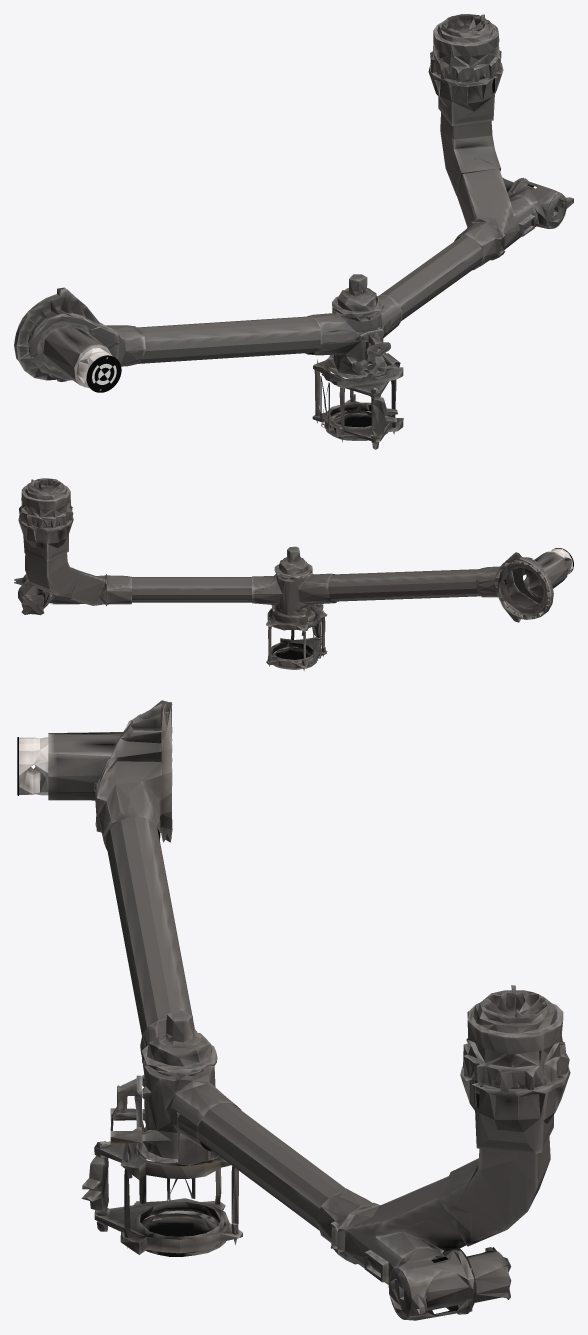
File: Left_Bogie.gltf
3 views of the same model, one above another, from view 1: azimuth 30°, elevation 25°; view 2: azimuth 150°, elevation 25°; view 3: azimuth 270°, elevation 25° (orthographic). The views are drawn at different scales.
Parts seen in each view (by area): view 1: Mesh_0; view 2: Mesh_0; view 3: Mesh_0.
Part boxes in pixels (x1,y1,x2,y2): Mesh_0: (14, 14, 573, 449); Mesh_0: (14, 478, 573, 670); Mesh_0: (17, 700, 570, 1320).
Bounding box in the file's own units: 1.31 × 0.5249 × 0.6587.
Materials: 1 (1 with a texture image).
